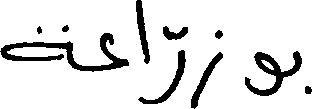ا: (133, 0, 151, 67)
ب: (291, 48, 311, 93)
ة: (0, 23, 73, 70)
ر: (149, 24, 186, 104)
ز: (189, 27, 225, 107)
ع: (98, 30, 129, 71)
و: (244, 49, 283, 96)
